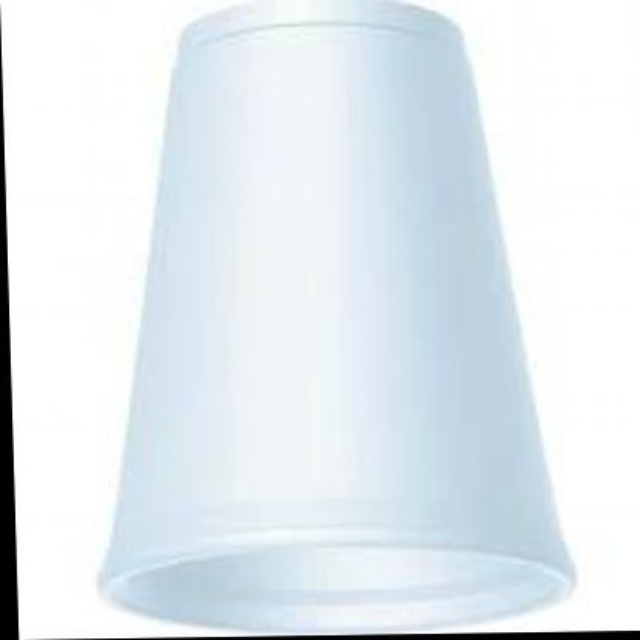trash: (103, 0, 566, 631)
